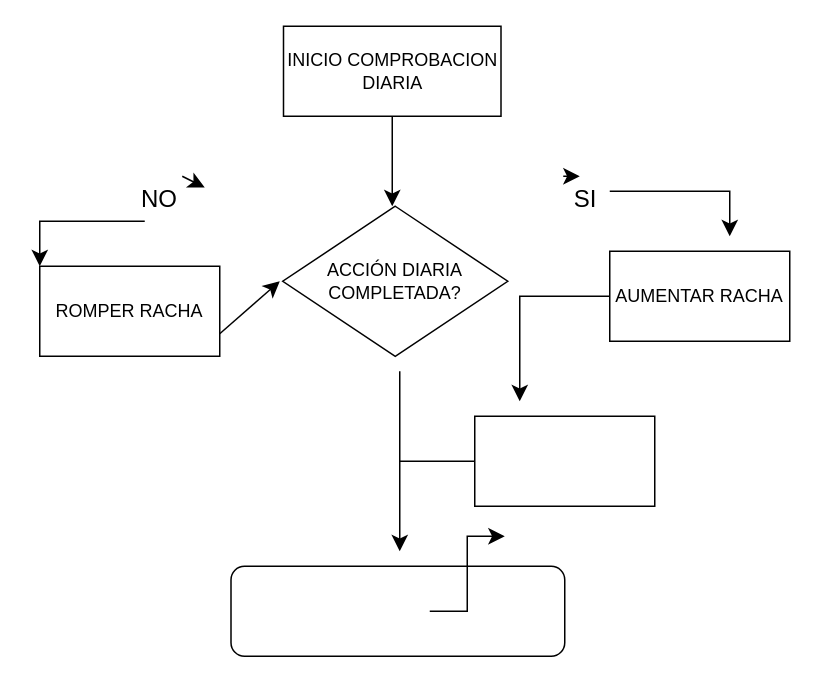
Some shapes in this 816 by 683 pixel diagram are drawn without their labels. Here are the shapes that lost their labels. From the top down, the centre of each, then its label:
At (x=564, y=460): "MOSTRAR RACHA ACTUAL".
At (x=397, y=610): "FIN RACHA ACTUALZADA".
